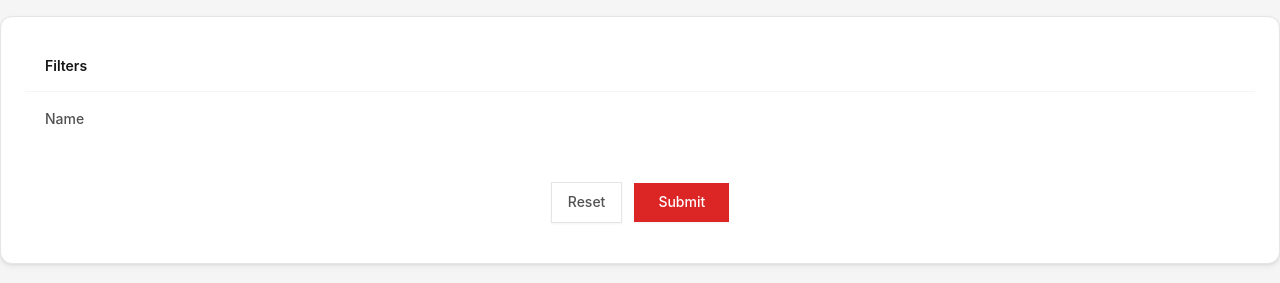
Test: V1FilterSection › toggles filter section visibility on header click
The width and height of the screenshot is (1280, 283).
Expected: the button "Submit" is shown, top-left (634, 183), bottom-right (729, 222)
# Click the Filters header to collapse
Click the heading "Filters": x=66, y=66 top-left (45, 55), bottom-right (87, 77)
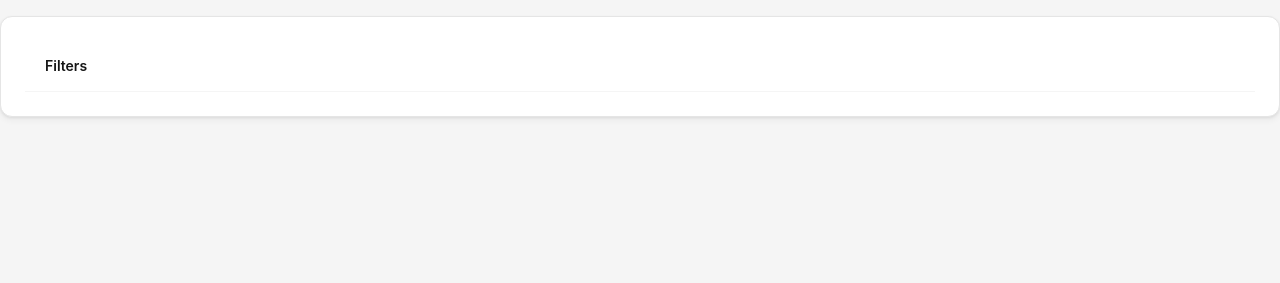
Expected: the button "Submit" is gone
